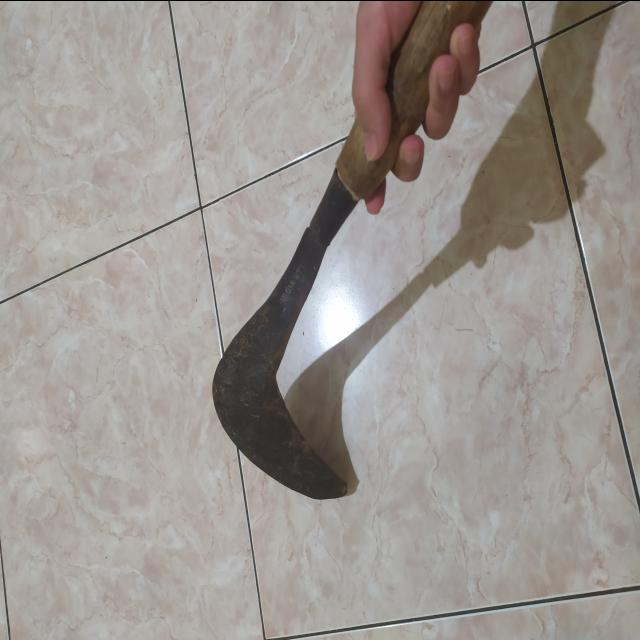Celurit: (213, 1, 480, 500)
